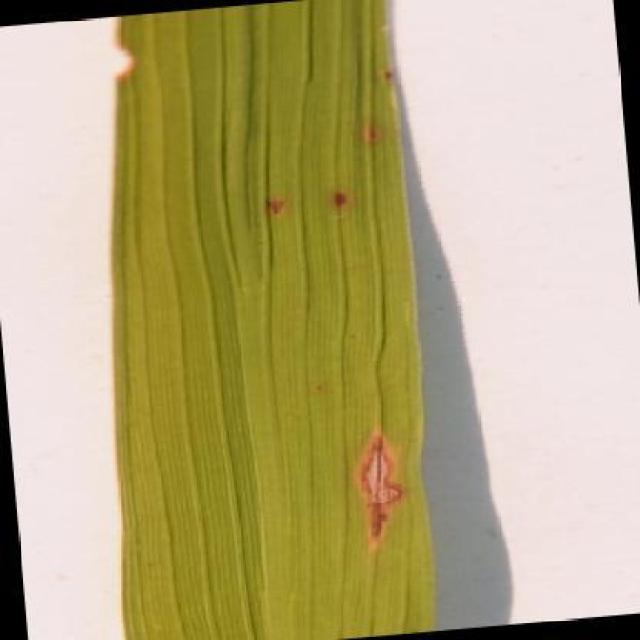Brown_Spot: (333, 426, 439, 577)
Leaf_Blast: (298, 176, 382, 233), (331, 114, 404, 160), (232, 189, 308, 231)
